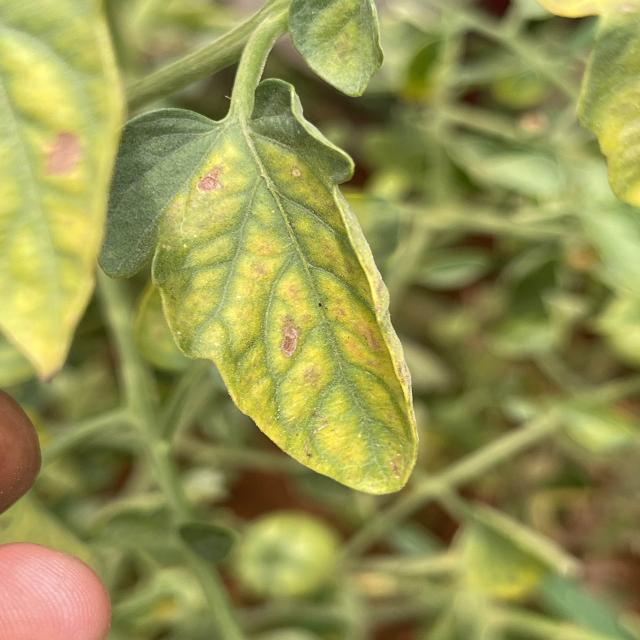tomato_early blight: (99, 77, 417, 494), (0, 0, 124, 379), (548, 0, 640, 202), (282, 0, 399, 100)
